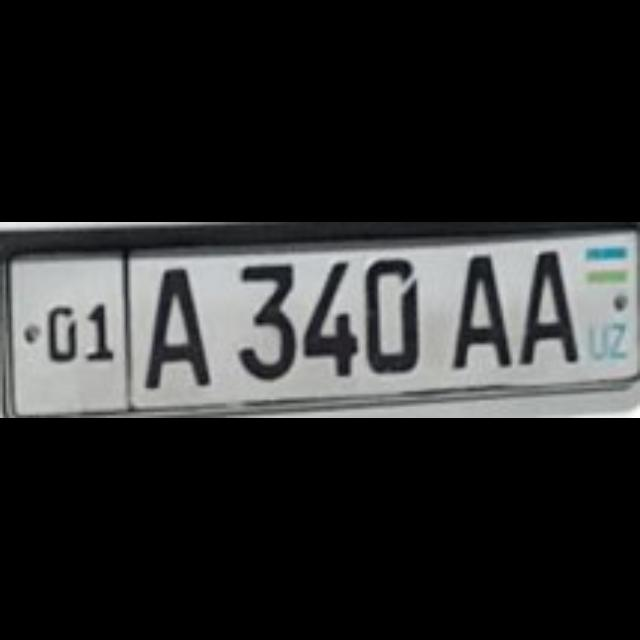0: (366, 255, 416, 368), (45, 302, 75, 360)
1: (80, 296, 114, 359)
3: (238, 261, 292, 377)
4: (300, 260, 354, 374)
A: (142, 261, 205, 383), (452, 252, 510, 362), (521, 249, 575, 359)
